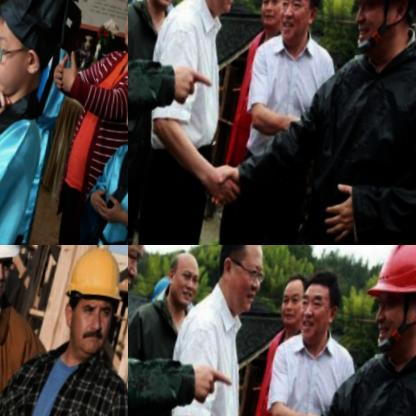head: (0, 0, 71, 102)
helmet: (48, 245, 128, 363), (352, 245, 416, 367), (332, 0, 416, 68), (0, 245, 36, 317)
